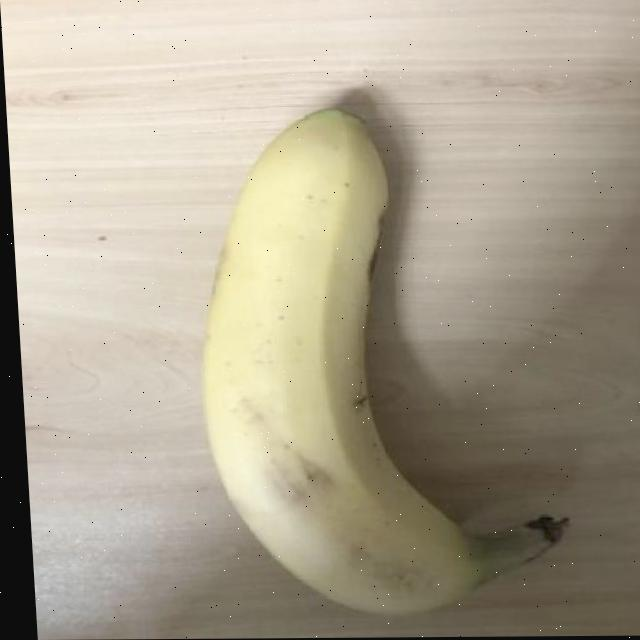banana: (188, 92, 576, 620)
